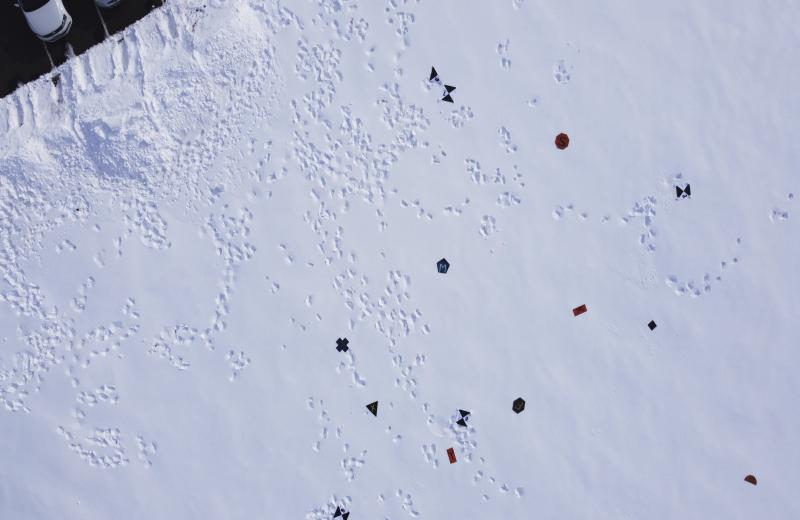Cross: (336, 336, 351, 354)
Hexagon: (512, 396, 526, 414)
Octagon: (554, 132, 570, 150)
Pentagon: (436, 258, 451, 274)
Rectangle: (445, 447, 458, 465), (572, 302, 588, 316)
Semi Circle: (744, 473, 758, 487)
Square: (646, 319, 657, 332)
Triangle: (366, 400, 380, 417)
